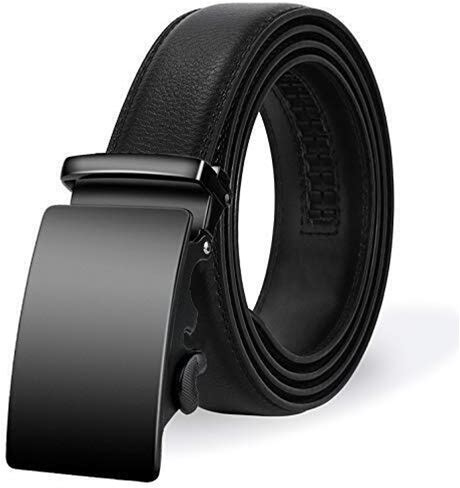cuero: (107, 1, 395, 416)
